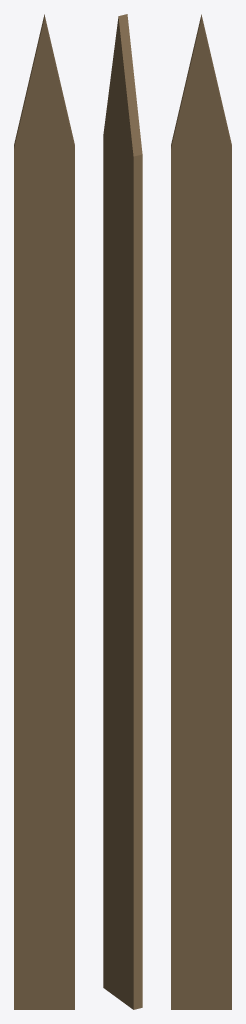
The model's file is fencepost.fbx.
3 renders of one model, left to right at view 1: azimuth 90°, elevation 25°; view 2: azimuth 210°, elevation 25°; view 3: azimuth 270°, elevation 25°, orthographic.
Parts seen in each view (by area): view 1: fence post; view 2: fence post; view 3: fence post.
Boxes of the visible parts, bbox=[...] form: fence post: bbox=[14, 14, 74, 1009]; fence post: bbox=[103, 14, 142, 1009]; fence post: bbox=[171, 14, 231, 1009].
Size of the model in its own units: 0.0433 by 4.5 by 0.25.
